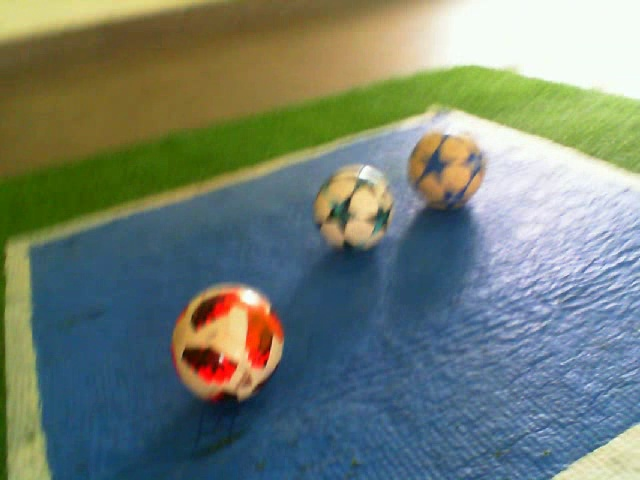ball: (168, 279, 289, 410), (309, 161, 397, 258), (405, 122, 491, 216)
